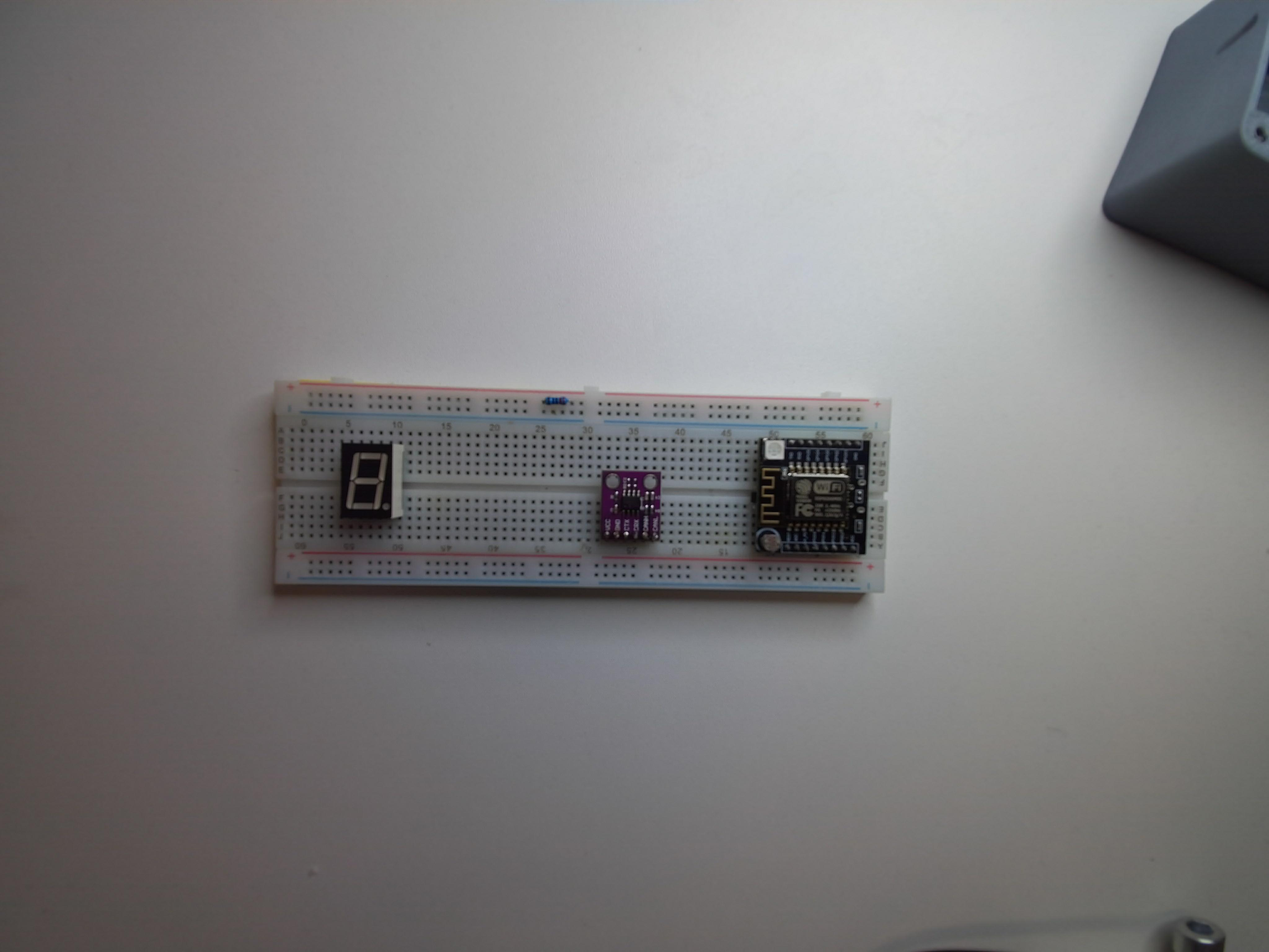base: (264, 377, 898, 598)
digit-board: (338, 436, 398, 519)
esp: (751, 430, 877, 564)
purple-board: (597, 467, 662, 545)
resistor-small: (542, 396, 569, 408)
